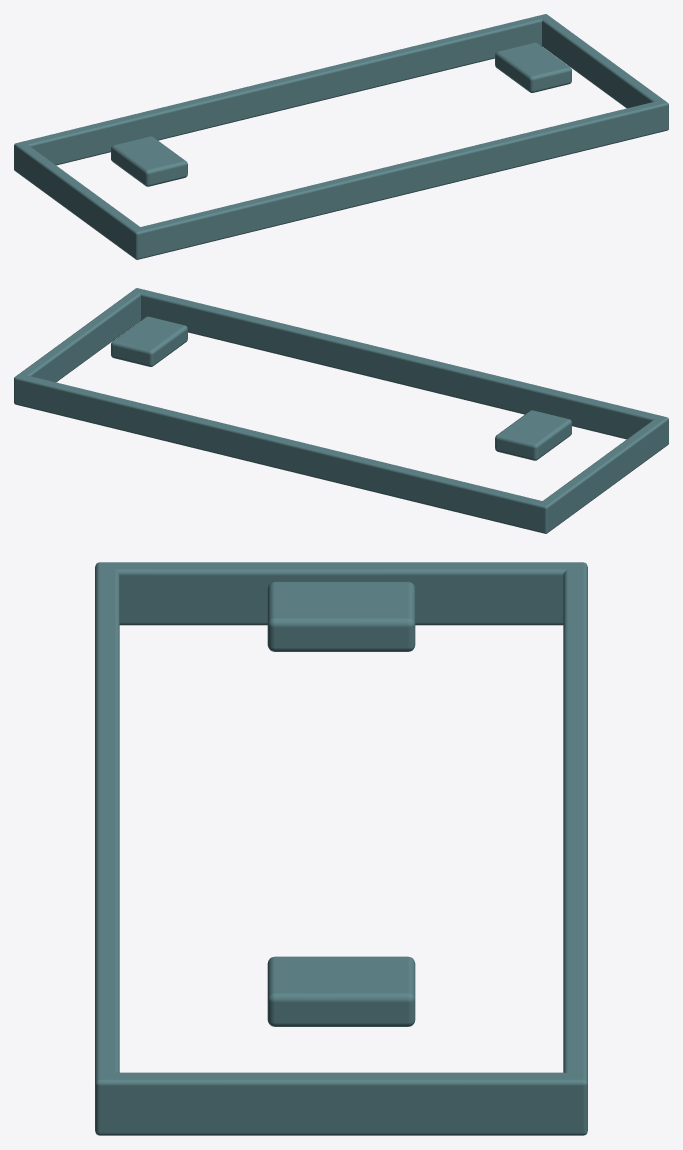
Rendered from candlemaking-and-soap-workshop-mold-liner-frame-676be284__30677.glb.
The picture shows the model from 3 angles, top to bottom: view 1: azimuth 30°, elevation 25°; view 2: azimuth 150°, elevation 25°; view 3: azimuth 270°, elevation 25°; orthographic projection. The views are drawn at different scales.
Visible parts, largest first — view 1: mold-liner-frame; view 2: mold-liner-frame; view 3: mold-liner-frame.
Boxes of the visible parts, bbox=[...] form: mold-liner-frame: bbox=[14, 14, 668, 259]; mold-liner-frame: bbox=[14, 288, 668, 533]; mold-liner-frame: bbox=[95, 562, 587, 1135].
Size of the model in its own units: 0.5 by 0.04 by 0.2.
